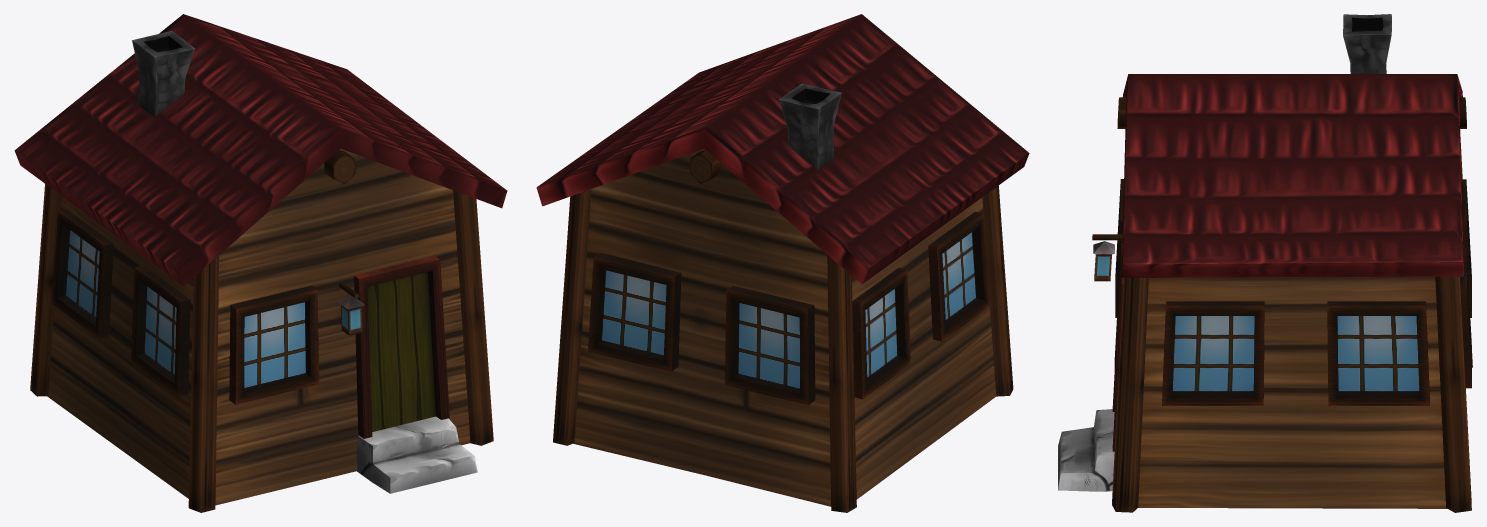
The model's file is COTAGE-HOUSE-01.fbx.
The picture shows the model from 3 angles, left to right: view 1: azimuth 30°, elevation 25°; view 2: azimuth 150°, elevation 25°; view 3: azimuth 270°, elevation 25°; orthographic projection. The views are drawn at different scales.
Visible parts, largest first — view 1: WALLS, roof, DOOR, WINDOW_7, long_wood_2, stairs, WINDOW_2, long_wood_1, WINDOW_3, CHIMNEY, long_wood_3, short_wood_1 (+1 smaller); view 2: WALLS, roof, WINDOW, WINDOW_1, long_wood_3, WINDOW_2, WINDOW_3, long_wood, long_wood_2, CHIMNEY, short_wood; view 3: roof, WALLS, WINDOW_4, WINDOW_5, long_wood_1, long_wood, stairs, CHIMNEY, WINDOW_1, DOOR, LAMP, WINDOW (+1 smaller).
Part boxes in pixels (x1,y1,x2,y2): WALLS: [47, 148, 470, 505]; roof: [14, 14, 507, 285]; DOOR: [354, 255, 449, 438]; WINDOW_7: [229, 285, 319, 404]; long_wood_2: [188, 255, 219, 512]; stairs: [357, 416, 477, 493]; WINDOW_2: [130, 265, 190, 396]; long_wood_1: [453, 190, 493, 445]; WINDOW_3: [51, 209, 113, 338]; CHIMNEY: [132, 31, 194, 116]; long_wood_3: [30, 184, 61, 396]; short_wood_1: [324, 149, 355, 184]; WALLS: [573, 148, 996, 506]; roof: [536, 14, 1029, 284]; WINDOW: [724, 285, 815, 405]; WINDOW_1: [588, 252, 681, 371]; long_wood_3: [827, 255, 856, 512]; WINDOW_2: [928, 211, 989, 341]; WINDOW_3: [852, 267, 910, 399]; long_wood: [553, 190, 591, 445]; long_wood_2: [982, 185, 1013, 396]; CHIMNEY: [779, 83, 841, 169]; short_wood: [690, 149, 720, 183]; roof: [1121, 74, 1463, 277]; WALLS: [1138, 276, 1447, 508]; WINDOW_4: [1327, 301, 1429, 405]; WINDOW_5: [1162, 301, 1264, 405]; long_wood_1: [1112, 278, 1148, 512]; long_wood: [1435, 276, 1471, 512]; stairs: [1058, 409, 1114, 491]; CHIMNEY: [1343, 14, 1391, 73]; WINDOW_1: [1460, 247, 1471, 388]; DOOR: [1112, 242, 1123, 451]; LAMP: [1093, 241, 1114, 281]; WINDOW: [1461, 179, 1471, 317].
Size of the model in its own units: 463 by 481 by 475.
10 materials, 9 textured.
